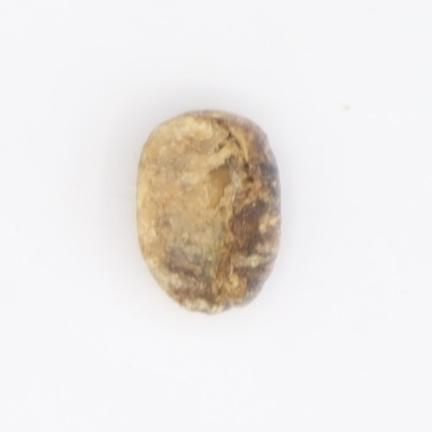partial-black: (137, 111, 280, 313)
